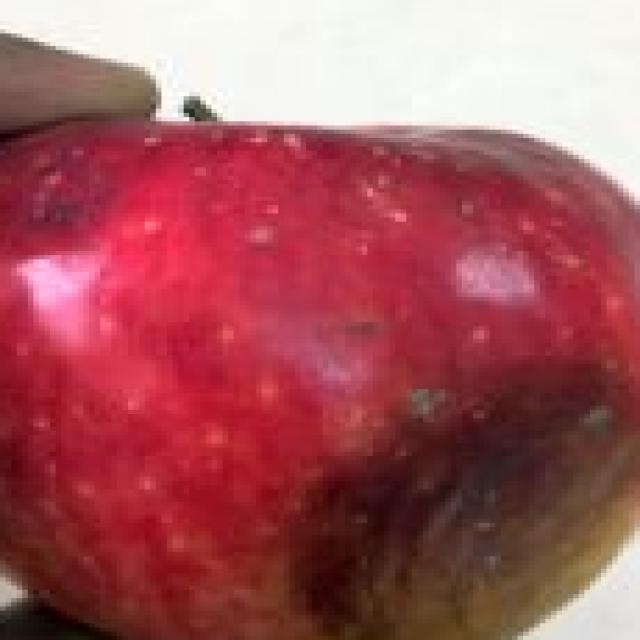Bad_Apple 0-1 day: (0, 121, 640, 640)
